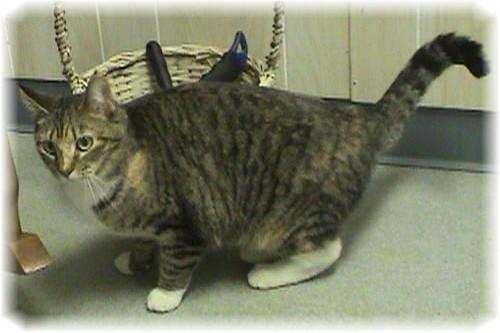cat: (17, 33, 487, 311)
